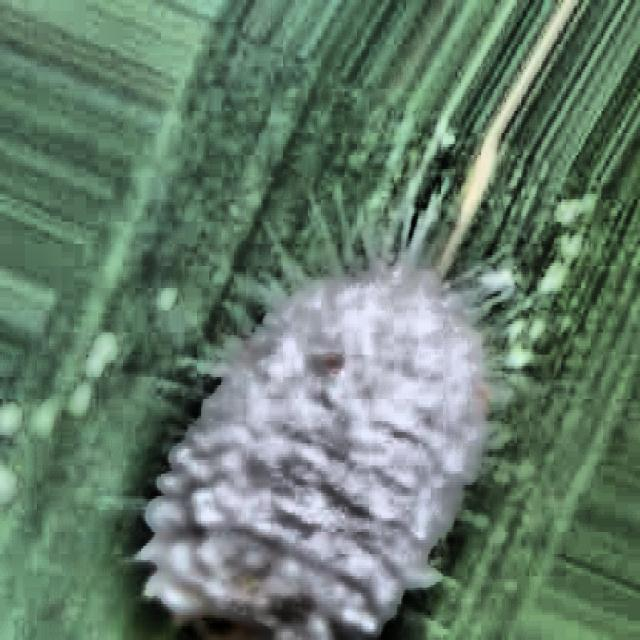Mealy-bug: (33, 194, 552, 640)
